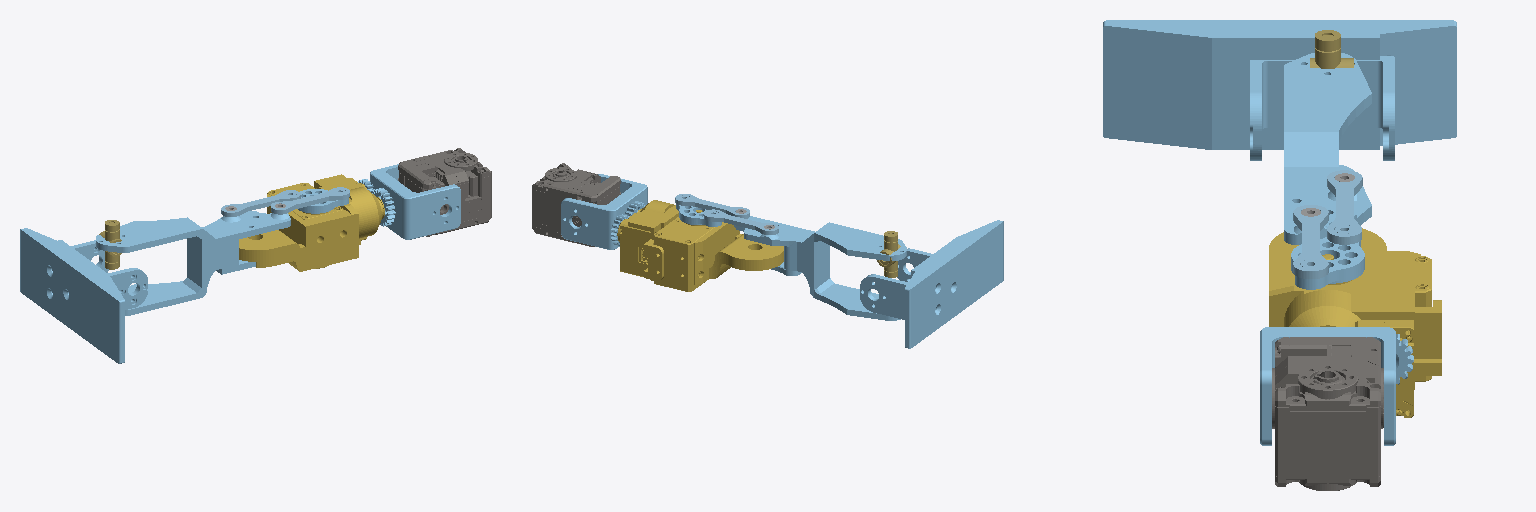
URDF robot description (left_leg_reorder):
<?xml version="1.0" ?>
<robot name="left_leg_reorder">
  <link name="2xc430">
    <visual>
      <origin xyz="0 0 0" rpy="0 -0 0"/>
      <geometry>
        <mesh filename="package:///meshes/left_2xc430_visual.stl"/>
      </geometry>
      <material name="2xc430_material">
        <color rgba="0.51698661238356047321 0.50347815951093488618 0.49050589017722012741 1.0"/>
      </material>
    </visual>
    <collision>
      <origin xyz="0 0 0" rpy="0 -0 0"/>
      <geometry>
        <mesh filename="package:///meshes/left_2xc430_collision.stl"/>
      </geometry>
    </collision>
    <inertial>
      <origin xyz="-0.0120001511339564923 0.00049588831385626367092 0.01850401924450319896" rpy="0 0 0"/>
      <mass value="0.11059999999836234164"/>
      <inertia ixx="2.2818802599017385101e-05" ixy="4.6888548258345894655e-08" ixz="4.6520143289217505514e-08" iyy="3.0871666424467696587e-05" iyz="-5.7477343899723834052e-07" izz="3.0871632082336744173e-05"/>
    </inertial>
  </link>

  <link name="hip_yaw_link">
    <visual>
      <origin xyz="0 0 0" rpy="0 -0 0"/>
      <geometry>
        <mesh filename="package:///meshes/left_hip_yaw_link_visual.stl"/>
      </geometry>
      <material name="hip_yaw_link_material">
        <color rgba="0.61568627450980395466 0.81176470588235294379 0.92941176470588238168 1.0"/>
      </material>
    </visual>
    <collision>
      <origin xyz="0 0 0" rpy="0 -0 0"/>
      <geometry>
        <mesh filename="package:///meshes/left_hip_yaw_link_collision.stl"/>
      </geometry>
    </collision>
    <inertial>
      <origin xyz="-2.6788828011920776553e-18 -0.015800610849654273676 -0.019005670096647751116" rpy="0 0 0"/>
      <mass value="0.013199999999999992989"/>
      <inertia ixx="5.789461597517412337e-06" ixy="-8.9146992682572530072e-42" ixz="2.3029045376022530017e-38" iyy="5.0110144042848776317e-06" iyz="1.1826010760651176287e-09" izz="2.7344876354814331659e-06"/>
    </inertial>
  </link>

  <link name="spur_gear_21_teeth">
    <visual>
      <origin xyz="0 0 0" rpy="0 -0 0"/>
      <geometry>
        <mesh filename="package:///meshes/left_spur_gear_21_teeth_visual.stl"/>
      </geometry>
      <material name="spur_gear_21_teeth_material">
        <color rgba="0.61568627450980395466 0.81176470588235294379 0.9294117647058824927 1.0"/>
      </material>
    </visual>
    <collision>
      <origin xyz="0 0 0" rpy="0 -0 0"/>
      <geometry>
        <mesh filename="package:///meshes/left_spur_gear_21_teeth_collision.stl"/>
      </geometry>
    </collision>
    <inertial>
      <origin xyz="-4.5505289335411606329e-11 -1.6782167131337769527e-11 -0.00249241020062506086" rpy="0 0 0"/>
      <mass value="0.0022000000000000001325"/>
      <inertia ixx="7.0162310059594196881e-08" ixy="0" ixz="3.5821515246363659276e-39" iyy="7.016231005804746178e-08" iyz="3.4592689640492888782e-39" izz="1.3125544198538289306e-07"/>
    </inertial>
  </link>

  <link name="left_hip_pitch_link">
    <visual>
      <origin xyz="0 0 0" rpy="0 -0 0"/>
      <geometry>
        <mesh filename="package:///meshes/left_hip_pitch_link_visual.stl"/>
      </geometry>
      <material name="left_hip_pitch_link_material">
        <color rgba="0.80773802221328794282 0.71541030077254164077 0.35058406659986895981 1.0"/>
      </material>
    </visual>
    <collision>
      <origin xyz="0 0 0" rpy="0 -0 0"/>
      <geometry>
        <mesh filename="package:///meshes/left_hip_pitch_link_collision.stl"/>
      </geometry>
    </collision>
    <inertial>
      <origin xyz="-0.0099310748247876095424 -0.0055733268638735221703 0.039014117054800540041" rpy="0 0 0"/>
      <mass value="0.14895408167669133004"/>
      <inertia ixx="7.3955327919484554534e-05" ixy="-1.1805488631449676488e-06" ixz="-8.0603251552292261945e-06" iyy="8.8995102919697799664e-05" iyz="1.1275669888581082312e-06" izz="4.229226925645443425e-05"/>
    </inertial>
  </link>

  <link name="spur_gear_18_teeth">
    <visual>
      <origin xyz="0 0 0" rpy="0 -0 0"/>
      <geometry>
        <mesh filename="package:///meshes/left_spur_gear_18_teeth_visual.stl"/>
      </geometry>
      <material name="spur_gear_18_teeth_material">
        <color rgba="0.61568627450980395466 0.81176470588235294379 0.92941176470588238168 1.0"/>
      </material>
    </visual>
    <collision>
      <origin xyz="0 0 0" rpy="0 -0 0"/>
      <geometry>
        <mesh filename="package:///meshes/left_spur_gear_18_teeth_collision.stl"/>
      </geometry>
    </collision>
    <inertial>
      <origin xyz="-5.1949311242382435497e-14 -2.4694124227557309252e-13 0.0071513122316232257542" rpy="0 0 0"/>
      <mass value="0.00080399356292630238564"/>
      <inertia ixx="2.0123636882888889372e-08" ixy="2.1553335600797640032e-16" ixz="-2.0678132065284356934e-39" iyy="2.012363672795583975e-08" iyz="-1.9859628258607443751e-39" izz="3.1595601997159143493e-08"/>
    </inertial>
  </link>

  <joint name="left_hip_yaw_drive" type="revolute">
    <origin xyz="-0.019199999999995859268 0.00020000000000327047833 0.0064999999999706542519" rpy="-3.1415926535897922278 -1.1023290397713749775e-15 3.1415926535897926719"/>
    <parent link="left_hip_pitch_link"/>
    <child link="spur_gear_18_teeth"/>
    <axis xyz="0 0 1"/>
    <limit effort="1" velocity="20" lower="-1.8325957145940461324" upper="1.8325957145940461324"/>
    <joint_properties friction="0.0"/>
  </joint>

  <link name="left_calf_link">
    <visual>
      <origin xyz="0 0 0" rpy="0 -0 0"/>
      <geometry>
        <mesh filename="package:///meshes/left_calf_link_visual.stl"/>
      </geometry>
      <material name="left_calf_link_material">
        <color rgba="0.61568627450980395466 0.81176470588235294379 0.92941176470588238168 1.0"/>
      </material>
    </visual>
    <collision>
      <origin xyz="0 0 0" rpy="0 -0 0"/>
      <geometry>
        <mesh filename="package:///meshes/left_calf_link_collision.stl"/>
      </geometry>
    </collision>
    <inertial>
      <origin xyz="-0.0043450054391243842986 0.040752982165250653535 0.0087116093515534290953" rpy="0 0 0"/>
      <mass value="0.030999999999999992839"/>
      <inertia ixx="3.3069388685112529225e-05" ixy="-1.3783307153200129991e-06" ixz="-1.2742534026331719223e-07" iyy="7.7316525337314278736e-06" iyz="-7.3356500593883571098e-08" izz="2.8031377753987348096e-05"/>
    </inertial>
  </link>

  <link name="bearing_683">
    <visual>
      <origin xyz="0 0 0" rpy="0 -0 0"/>
      <geometry>
        <mesh filename="package:///meshes/left_bearing_683_visual.stl"/>
      </geometry>
      <material name="bearing_683_material">
        <color rgba="0.64705882352941179736 0.64705882352941179736 0.64705882352941179736 1.0"/>
      </material>
    </visual>
    <collision>
      <origin xyz="0 0 0" rpy="0 -0 0"/>
      <geometry>
        <mesh filename="package:///meshes/left_bearing_683_collision.stl"/>
      </geometry>
    </collision>
    <inertial>
      <origin xyz="-2.7648254672676536231e-17 -2.4186774283160226211e-19 -0.0015500000000000003792" rpy="0 0 0"/>
      <mass value="0.00048694686130641793437"/>
      <inertia ixx="2.1551456503319887385e-09" ixy="4.9267306786690215198e-28" ixz="-6.9624168202103941184e-40" iyy="2.1551456503319883249e-09" iyz="0" izz="3.5303647444715305817e-09"/>
    </inertial>
  </link>

  <joint name="left_knee_front_rev_2" type="revolute">
    <origin xyz="-0.0057402514854764446692 -0.013858192987668910279 0.026199999999999806777" rpy="3.141592653589793116 -2.6658986873461889469e-19 -1.5720018459275955092"/>
    <parent link="left_calf_link"/>
    <child link="bearing_683"/>
    <axis xyz="0 0 1"/>
    <limit effort="1" velocity="20"/>
    <joint_properties friction="0.0"/>
  </joint>

  <link name="bearing_683_2">
    <visual>
      <origin xyz="0 0 0" rpy="0 -0 0"/>
      <geometry>
        <mesh filename="package:///meshes/left_bearing_683_2_visual.stl"/>
      </geometry>
      <material name="bearing_683_2_material">
        <color rgba="0.64705882352941179736 0.64705882352941179736 0.64705882352941179736 1.0"/>
      </material>
    </visual>
    <collision>
      <origin xyz="0 0 0" rpy="0 -0 0"/>
      <geometry>
        <mesh filename="package:///meshes/left_bearing_683_2_collision.stl"/>
      </geometry>
    </collision>
    <inertial>
      <origin xyz="1.0732094295237771334e-19 -1.1092294808200058093e-18 -0.0015500000000000003792" rpy="0 0 0"/>
      <mass value="0.00048694686130641793437"/>
      <inertia ixx="2.1551456503319895657e-09" ixy="-5.8026584312313582246e-29" ixz="-2.2425384383440883957e-39" iyy="2.1551456503319883249e-09" iyz="1.1443785659275753027e-59" izz="3.5303647444715305817e-09"/>
    </inertial>
  </link>

  <joint name="left_knee_back_rev_2" type="revolute">
    <origin xyz="0.0057402514854763128302 0.013858192987669520901 0.026199999999999820655" rpy="3.1415926535897926719 1.2765047101265124586e-15 -1.5719345627640661789"/>
    <parent link="left_calf_link"/>
    <child link="bearing_683_2"/>
    <axis xyz="0 0 1"/>
    <limit effort="1" velocity="20"/>
    <joint_properties friction="0.0"/>
  </joint>

  <link name="left_ank_pitch_link">
    <visual>
      <origin xyz="0 0 0" rpy="0 -0 0"/>
      <geometry>
        <mesh filename="package:///meshes/left_ank_pitch_link_visual.stl"/>
      </geometry>
      <material name="left_ank_pitch_link_material">
        <color rgba="0.70321688500203349825 0.64514870846184457776 0.40484735422826251261 1.0"/>
      </material>
    </visual>
    <collision>
      <origin xyz="0 0 0" rpy="0 -0 0"/>
      <geometry>
        <mesh filename="package:///meshes/left_ank_pitch_link_collision.stl"/>
      </geometry>
    </collision>
    <inertial>
      <origin xyz="0.017770241891401045847 0.012301334508572351473 0.018813528244421662966" rpy="0 0 0"/>
      <mass value="0.1767637669506791076"/>
      <inertia ixx="4.7283316680253283646e-05" ixy="-1.3380598598450345022e-06" ixz="-5.5304058905127566903e-07" iyy="0.00010706456048089217008" iyz="-5.322513783954201532e-08" izz="0.00012185522397136366337"/>
    </inertial>
  </link>

  <link name="ank_roll_link">
    <visual>
      <origin xyz="0 0 0" rpy="0 -0 0"/>
      <geometry>
        <mesh filename="package:///meshes/left_ank_roll_link_visual.stl"/>
      </geometry>
      <material name="ank_roll_link_material">
        <color rgba="0.61568627450980384364 0.81176470588235283277 0.92941176470588227065 1.0"/>
      </material>
    </visual>
    <collision>
      <origin xyz="0 0 0" rpy="0 -0 0"/>
      <geometry>
        <mesh filename="package:///meshes/left_ank_roll_link_collision.stl"/>
      </geometry>
    </collision>
    <inertial>
      <origin xyz="-0.027003066516822063492 -2.0057306044881892286e-12 0.033764011359896428655" rpy="0 0 0"/>
      <mass value="0.042600000000000012856"/>
      <inertia ixx="3.7284397827464409376e-05" ixy="-5.5175845547796796131e-16" ixz="2.3929183768080916145e-06" iyy="3.7589276943350443088e-05" iyz="5.0934855377808009464e-12" izz="1.0090430906786770866e-05"/>
    </inertial>
  </link>

  <joint name="left_ank_roll" type="revolute">
    <origin xyz="0.022749999999983960136 -6.9111383282915994641e-15 0.019000000000000714234" rpy="-1.5707963267949474062 -1.4843511765636387656e-14 1.5707963267950975084"/>
    <parent link="left_ank_pitch_link"/>
    <child link="ank_roll_link"/>
    <axis xyz="0 0 1"/>
    <limit effort="1" velocity="20" lower="-1.570796326794896558" upper="1.570796326794896558"/>
    <joint_properties friction="0.0"/>
  </joint>

  <joint name="left_ank_pitch" type="revolute">
    <origin xyz="6.0459825159226438491e-16 0.099999999999999644729 0.027749999999999767908" rpy="-3.1415926535897926719 2.1632341620044295324e-16 -3.303485617132085651e-14"/>
    <parent link="left_calf_link"/>
    <child link="left_ank_pitch_link"/>
    <axis xyz="0 0 1"/>
    <limit effort="1" velocity="20" lower="-1.7453292519943295336" upper="0.785398163397448279"/>
    <joint_properties friction="0.0"/>
  </joint>

  <joint name="left_knee" type="revolute">
    <origin xyz="-2.0388404761970504005e-17 -0.0087500000000001014466 0.085949999999999859845" rpy="1.5707963267948985564 1.8697993545483485847e-15 3.1415926535897922278"/>
    <parent link="left_hip_pitch_link"/>
    <child link="left_calf_link"/>
    <axis xyz="0 0 1"/>
    <limit effort="1" velocity="20" lower="-2.0943951023931952626" upper="0"/>
    <joint_properties friction="0.0"/>
  </joint>

  <link name="xm430_plate">
    <visual>
      <origin xyz="0 0 0" rpy="0 -0 0"/>
      <geometry>
        <mesh filename="package:///meshes/left_xm430_plate_visual.stl"/>
      </geometry>
      <material name="xm430_plate_material">
        <color rgba="0.61568627450980395466 0.81176470588235294379 0.92941176470588227065 1.0"/>
      </material>
    </visual>
    <collision>
      <origin xyz="0 0 0" rpy="0 -0 0"/>
      <geometry>
        <mesh filename="package:///meshes/left_xm430_plate_collision.stl"/>
      </geometry>
    </collision>
    <inertial>
      <origin xyz="1.4071106902214798841e-18 -2.6039898032607076159e-18 0.0025278513919583887187" rpy="0 0 0"/>
      <mass value="0.0026999999999999997093"/>
      <inertia ixx="1.2887178787151822041e-07" ixy="5.87395625563035933e-08" ixz="-1.7975784406729202332e-38" iyy="2.4635091298412534083e-07" iyz="-4.0956813139218174709e-39" izz="3.6467998413810316538e-07"/>
    </inertial>
  </link>

  <link name="knee_rod">
    <visual>
      <origin xyz="0 0 0" rpy="0 -0 0"/>
      <geometry>
        <mesh filename="package:///meshes/left_knee_rod_visual.stl"/>
      </geometry>
      <material name="knee_rod_material">
        <color rgba="0.62051618944235198416 0.78640765248647581664 0.88594253031295011613 1.0"/>
      </material>
    </visual>
    <collision>
      <origin xyz="0 0 0" rpy="0 -0 0"/>
      <geometry>
        <mesh filename="package:///meshes/left_knee_rod_collision.stl"/>
      </geometry>
    </collision>
    <inertial>
      <origin xyz="0.017534287432906647125 -4.2275889155916718482e-05 -0.0015987301647640860848" rpy="0 0 0"/>
      <mass value="0.003162946861306418795"/>
      <inertia ixx="2.4225257802878432684e-08" ixy="4.2664654149332194328e-10" ixz="4.9178282652746138198e-10" iyy="8.1758847647263870163e-07" iyz="-1.1857086489790707382e-12" izz="8.370492537402261536e-07"/>
    </inertial>
  </link>

  <joint name="left_knee_front_rev_1" type="revolute">
    <origin xyz="0.013858192987669312735 -0.0057402514854763518615 0.0050000000000000183187" rpy="-3.1415926535897926719 5.565031046053354564e-16 3.1403871344570974955"/>
    <parent link="xm430_plate"/>
    <child link="knee_rod"/>
    <axis xyz="0 0 1"/>
    <limit effort="1" velocity="20"/>
    <joint_properties friction="0.0"/>
  </joint>

  <link name="knee_rod_2">
    <visual>
      <origin xyz="0 0 0" rpy="0 -0 0"/>
      <geometry>
        <mesh filename="package:///meshes/left_knee_rod_2_visual.stl"/>
      </geometry>
      <material name="knee_rod_2_material">
        <color rgba="0.62051618944235198416 0.78640765248647581664 0.88594253031295011613 1.0"/>
      </material>
    </visual>
    <collision>
      <origin xyz="0 0 0" rpy="0 -0 0"/>
      <geometry>
        <mesh filename="package:///meshes/left_knee_rod_2_collision.stl"/>
      </geometry>
    </collision>
    <inertial>
      <origin xyz="0.017534290197983727622 -3.9916362690055996005e-05 -0.0015987301647640411988" rpy="0 0 0"/>
      <mass value="0.003162946861306418795"/>
      <inertia ixx="2.4225146182602337484e-08" ixy="4.0283436058596815725e-10" ixz="4.9178290407814696075e-10" iyy="8.1758853228271188338e-07" iyz="-1.1195311895769243565e-12" izz="8.3704919793004433987e-07"/>
    </inertial>
  </link>

  <joint name="left_knee_back_rev_1" type="revolute">
    <origin xyz="-0.013858192987669271101 0.0057402514854763241059 0.0050000000000000391354" rpy="-3.1415926535897922278 -2.1080453069702113353e-15 3.1404544176206248274"/>
    <parent link="xm430_plate"/>
    <child link="knee_rod_2"/>
    <axis xyz="0 0 1"/>
    <limit effort="1" velocity="20"/>
    <joint_properties friction="0.0"/>
  </joint>

  <joint name="left_knee_act" type="revolute">
    <origin xyz="6.9695166342471272367e-17 0.012449999999999992323 0.044500000000000053402" rpy="-1.5707963267948956698 1.5707963267948954478 0"/>
    <parent link="left_hip_pitch_link"/>
    <child link="xm430_plate"/>
    <axis xyz="0 0 1"/>
    <limit effort="1" velocity="20" lower="-2.0943951023931952626" upper="0"/>
    <joint_properties friction="0.0"/>
  </joint>

  <joint name="left_hip_yaw_driven" type="revolute">
    <origin xyz="-1.0958428267520217697e-17 2.0816681711721685133e-17 -0.0050000000000001224021" rpy="-3.1415926535897926719 -1.458624115281054252e-15 -4.4435634532580858026e-16"/>
    <parent link="spur_gear_21_teeth"/>
    <child link="left_hip_pitch_link"/>
    <axis xyz="0 0 1"/>
    <limit effort="1" velocity="20" lower="-1.570796326794896558" upper="1.570796326794896558"/>
    <joint_properties friction="0.0"/>
  </joint>

  <joint name="left_hip_yaw_fixed" type="fixed">
    <origin xyz="-3.4694469519536141888e-18 -0.027999999999999986705 -0.018999999999999999528" rpy="-1.5707963267948972241 1.5707963267948956698 0"/>
    <parent link="hip_yaw_link"/>
    <child link="spur_gear_21_teeth"/>
    <axis xyz="0 0 1"/>
    <limit effort="1" velocity="20"/>
    <joint_properties friction="0.0"/>
  </joint>

  <joint name="left_hip_roll" type="revolute">
    <origin xyz="-0.024000000716139988088 0.019000000152447765744 0.019000000152447751867" rpy="-1.5707963267948970021 -1.5707963267948961139 0"/>
    <parent link="2xc430"/>
    <child link="hip_yaw_link"/>
    <axis xyz="0 0 1"/>
    <limit effort="1" velocity="20" lower="-0.785398163397448279" upper="0.785398163397448279"/>
    <joint_properties friction="0.0"/>
  </joint>


</robot>

--- What the picture shows (computed from the rendered views, not written in the file) ---
Views: 3 orthographic renders of the robot side by side, from view 1: azimuth 30°, elevation 25°; view 2: azimuth 150°, elevation 25°; view 3: azimuth 270°, elevation 25°.
Model left_leg_reorder with 13 links and 12 joints (11 revolute, 1 fixed), rooted at 2xc430, posed every joint at zero.
Visible links, largest first — view 1: ank_roll_link, left_calf_link, left_hip_pitch_link, 2xc430, hip_yaw_link, knee_rod, knee_rod_2, left_ank_pitch_link, xm430_plate; view 2: ank_roll_link, left_hip_pitch_link, left_calf_link, 2xc430, hip_yaw_link, knee_rod_2, knee_rod, left_ank_pitch_link; view 3: ank_roll_link, 2xc430, left_hip_pitch_link, left_calf_link, hip_yaw_link, xm430_plate, knee_rod, knee_rod_2, left_ank_pitch_link, spur_gear_18_teeth.
Link boxes in pixels (bbox=[...]): ank_roll_link: bbox=[20, 228, 147, 363]; left_calf_link: bbox=[96, 211, 290, 315]; left_hip_pitch_link: bbox=[239, 174, 384, 271]; 2xc430: bbox=[398, 148, 491, 236]; hip_yaw_link: bbox=[370, 164, 460, 239]; knee_rod: bbox=[271, 187, 349, 214]; knee_rod_2: bbox=[221, 190, 300, 216]; left_ank_pitch_link: bbox=[99, 220, 121, 269]; xm430_plate: bbox=[298, 189, 348, 213]; ank_roll_link: bbox=[860, 220, 1003, 348]; left_hip_pitch_link: bbox=[617, 200, 783, 291]; left_calf_link: bbox=[734, 216, 906, 320]; 2xc430: bbox=[532, 163, 620, 246]; hip_yaw_link: bbox=[561, 174, 647, 249]; knee_rod_2: bbox=[704, 209, 778, 234]; knee_rod: bbox=[675, 194, 749, 218]; left_ank_pitch_link: bbox=[877, 231, 900, 277]; ank_roll_link: bbox=[1103, 20, 1456, 160]; 2xc430: bbox=[1272, 337, 1383, 490]; left_hip_pitch_link: bbox=[1269, 228, 1441, 417]; left_calf_link: bbox=[1284, 53, 1371, 244]; hip_yaw_link: bbox=[1260, 327, 1395, 445]; xm430_plate: bbox=[1291, 237, 1364, 289]; knee_rod: bbox=[1293, 205, 1328, 278]; knee_rod_2: bbox=[1327, 170, 1362, 244]; left_ank_pitch_link: bbox=[1310, 30, 1354, 68]; spur_gear_18_teeth: bbox=[1396, 334, 1413, 384].
Bounding box of the posed robot: 0.2932 × 0.12 × 0.0591 m (x, y, z).
Meshes: 13 distinct files referenced, 13 mesh visuals loaded (13 binary STL).